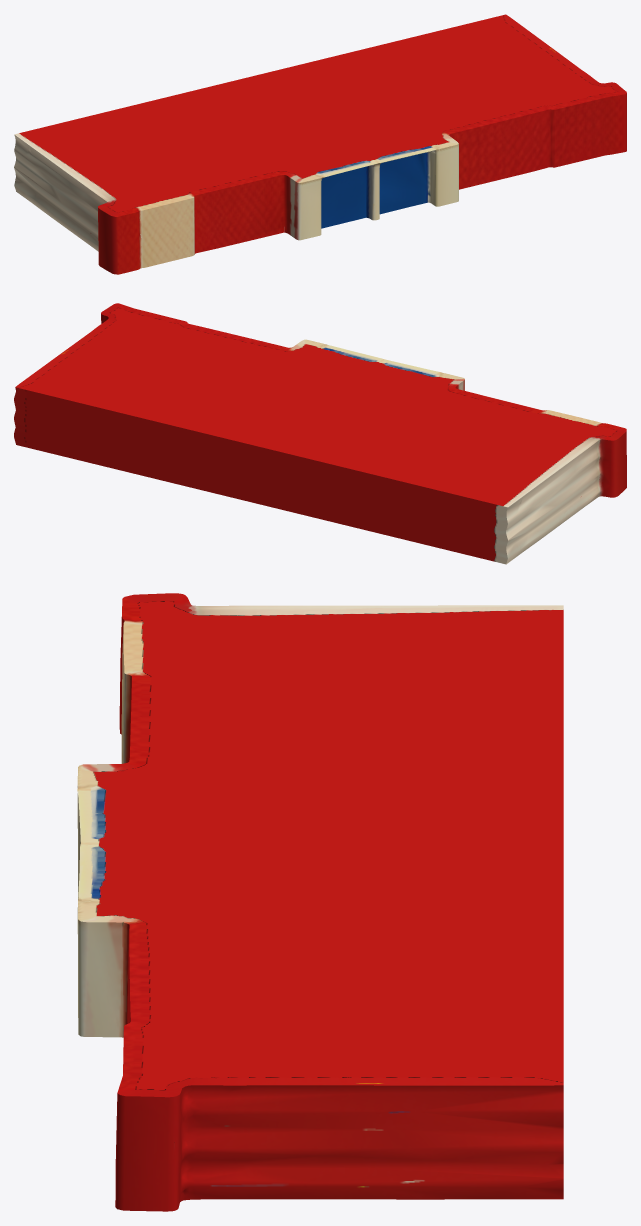
The model's file is 9-roof-front-left.fbx.
3 views of the same model, one above another, from view 1: azimuth 30°, elevation 25°; view 2: azimuth 150°, elevation 25°; view 3: azimuth 270°, elevation 25° (orthographic). The views are drawn at different scales.
Parts seen in each view (by area): view 1: roof-front-left; view 2: roof-front-left; view 3: roof-front-left.
Part boxes in pixels (x1=…): roof-front-left: x1=14, y1=14, x2=626, y2=274; roof-front-left: x1=14, y1=303, x2=626, y2=564; roof-front-left: x1=77, y1=593, x2=563, y2=1211.
Size of the model in its own units: 3691 by 392 by 1506.
1 material, 1 textured.
